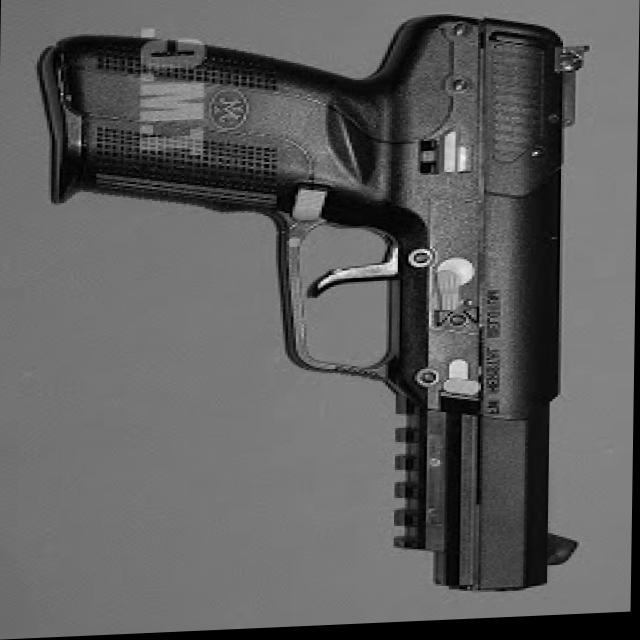handgun: (17, 13, 600, 631)
